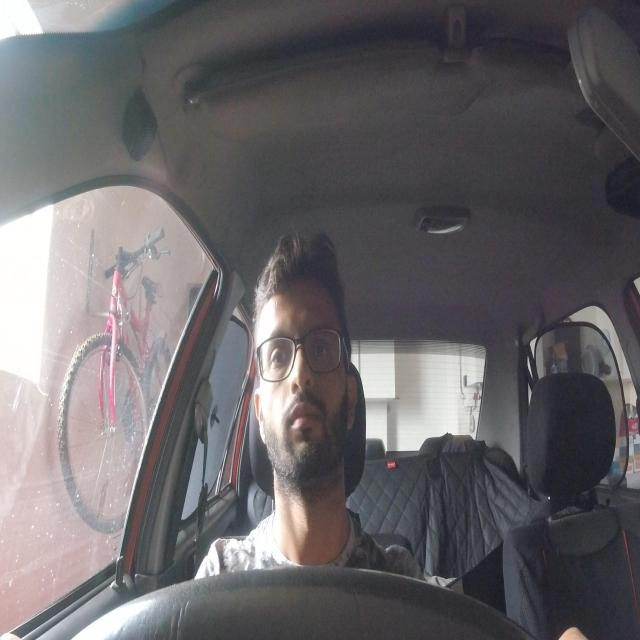open: (263, 324, 295, 387), (305, 323, 337, 378)
